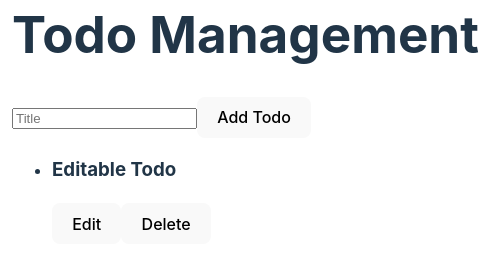
Test: FormPage Component › handles editing a todo
The width and height of the screenshot is (495, 261).
Step 1. Click the button "Edit" → (87, 224), box 52,203 -> 121,244
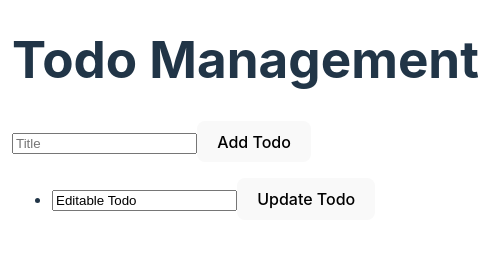
Step 2. Replace the text in the field showing "editable todo" with "Updated Todo" → (144, 200), box 52,190 -> 237,211
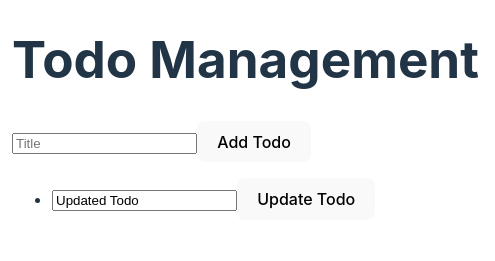
Step 3. Click the button "Update Todo" → (306, 199), box 237,178 -> 376,220
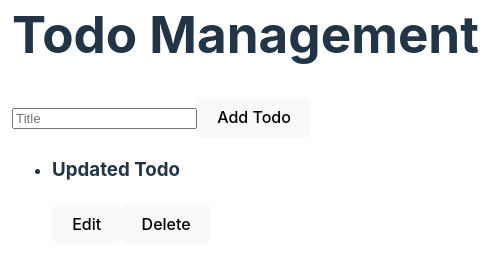
Now the heading "Updated Todo" is shown, box 52,158 -> 180,181
